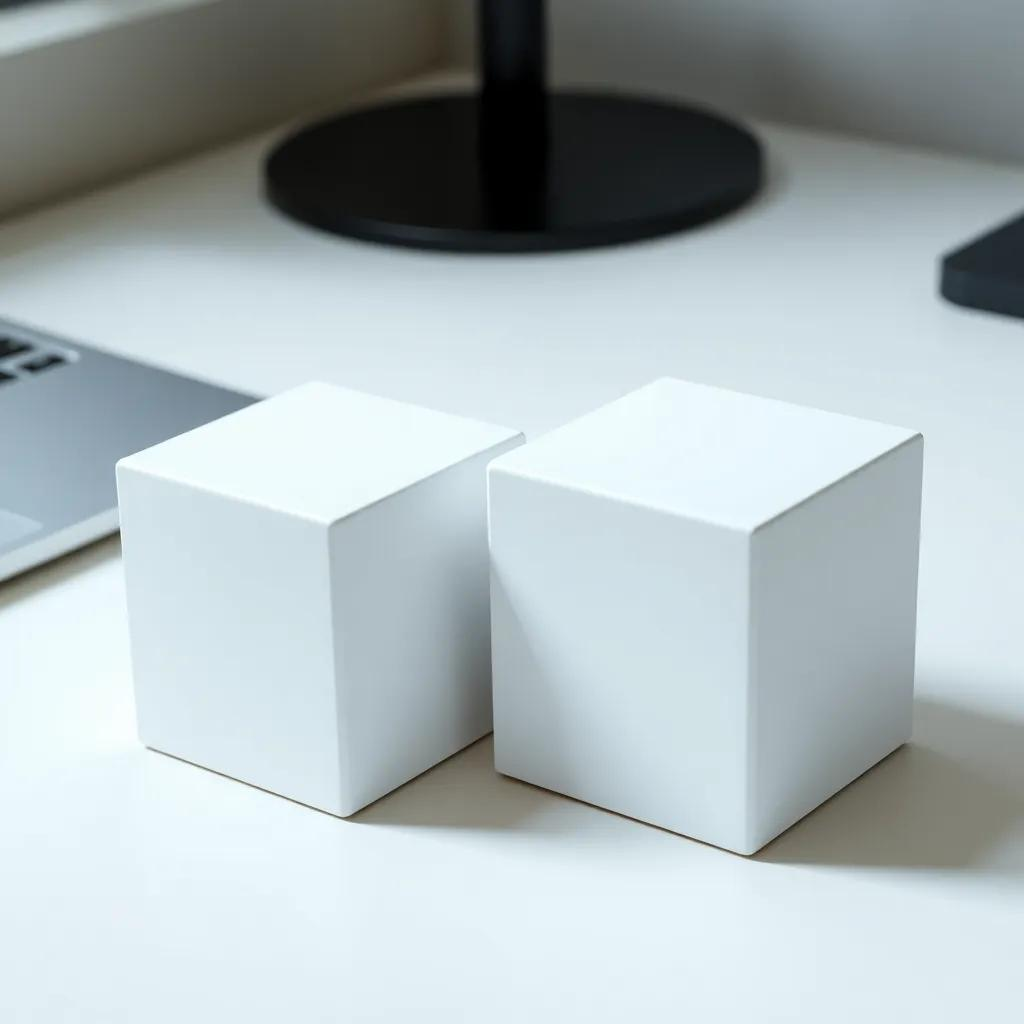cube: (485, 374, 924, 856), (113, 377, 525, 818)
